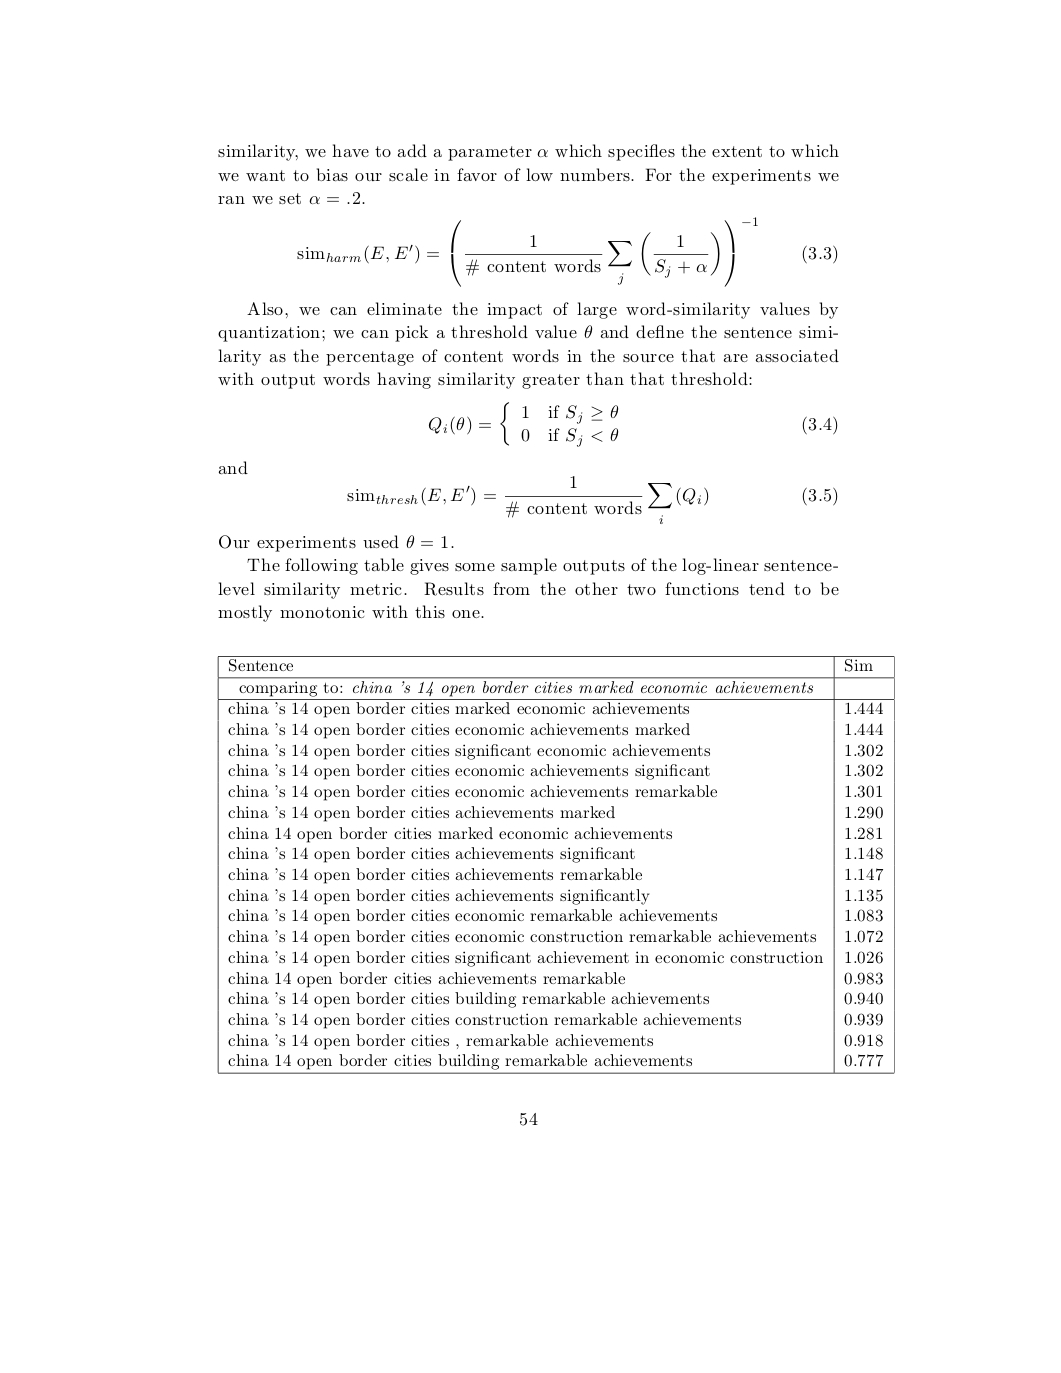Table: (217, 655, 894, 1074)
formula: (296, 216, 837, 288), (347, 475, 837, 524), (428, 401, 837, 447)
